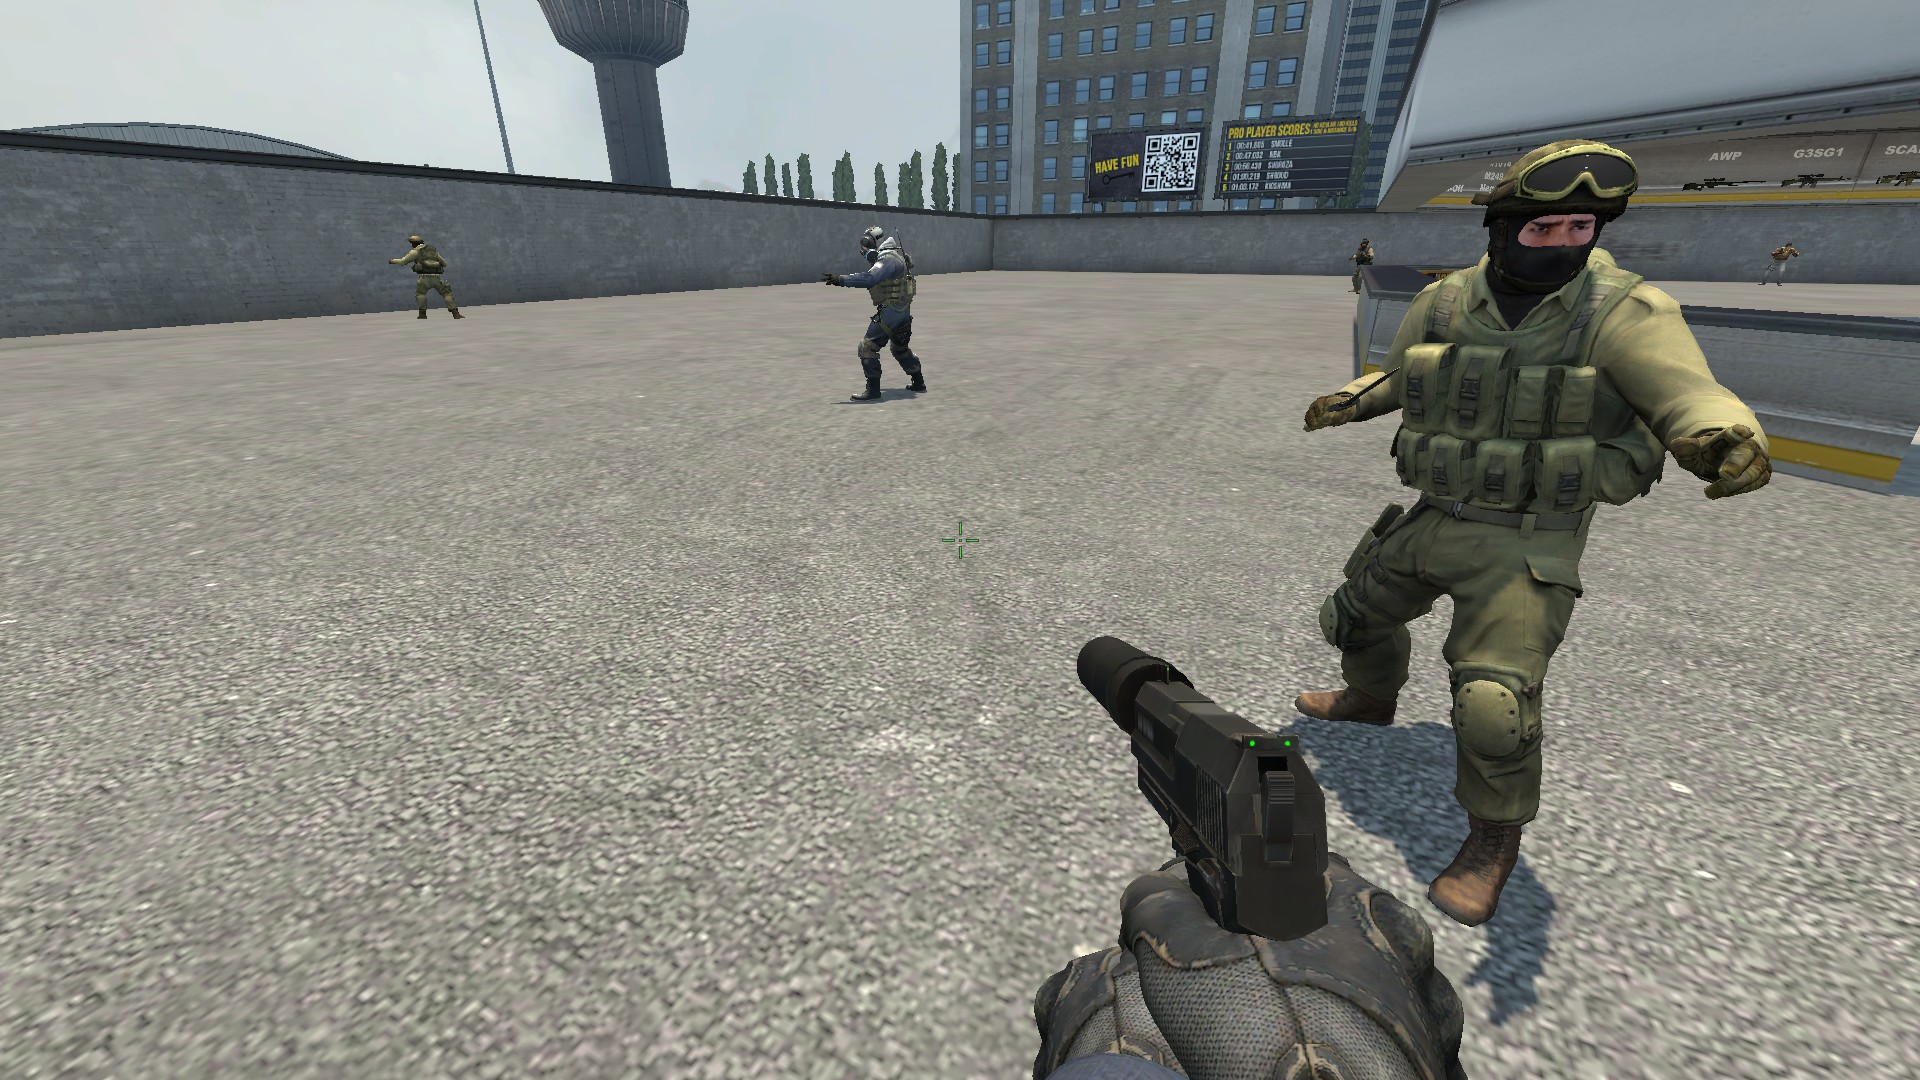ct: (1288, 138, 1775, 928), (820, 224, 931, 404)
ct head: (1470, 138, 1639, 286), (856, 223, 889, 261)
